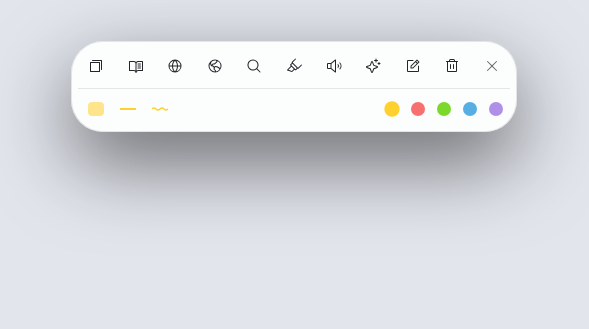
Scenario: SelectionToolbar note actions › keeps the action strip with the field it belongs to
The image size is (589, 329).
Click the button named "记笔记".
click(413, 66)  # box [395, 48, 431, 84]
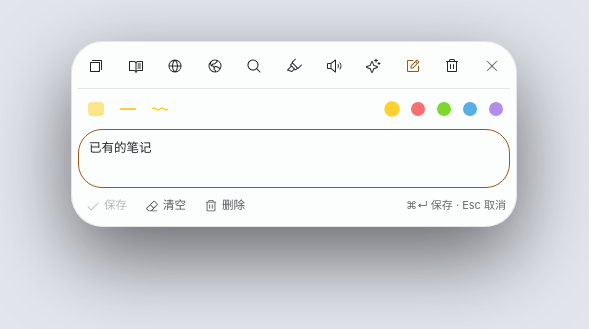
Expected: the button with aria-label "保存笔记" is shown, [78, 192, 135, 220]
Expected: the button with aria-label "清空输入" is shown, [137, 192, 194, 220]
Expected: the button with aria-label "删除笔记" is shown, [196, 192, 253, 220]
